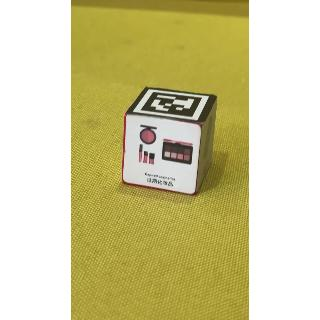Expired_Cosmetic: (126, 111, 204, 196)
